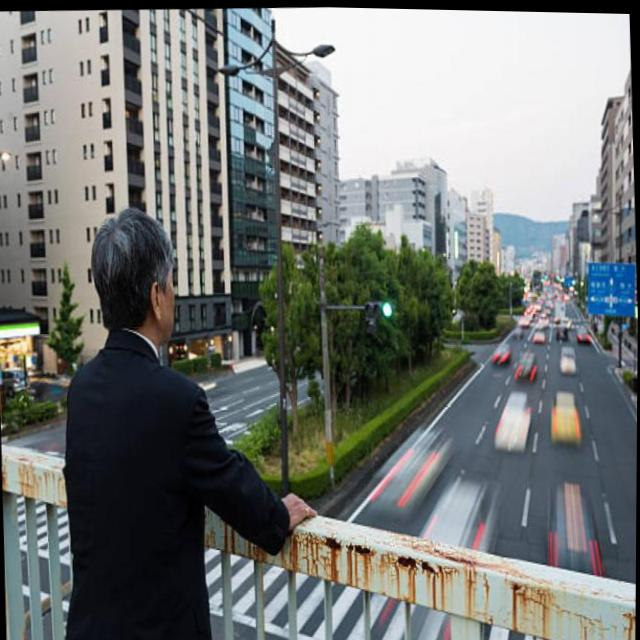no helmet: (78, 190, 194, 359)
